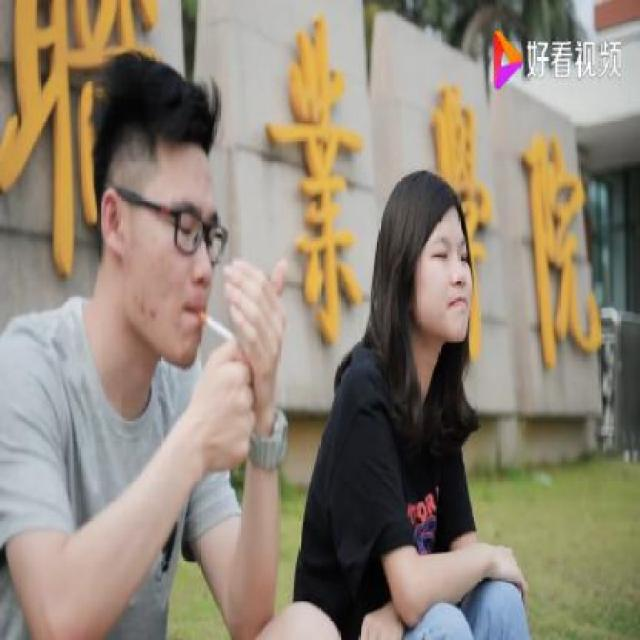smoke: (197, 298, 245, 356)
